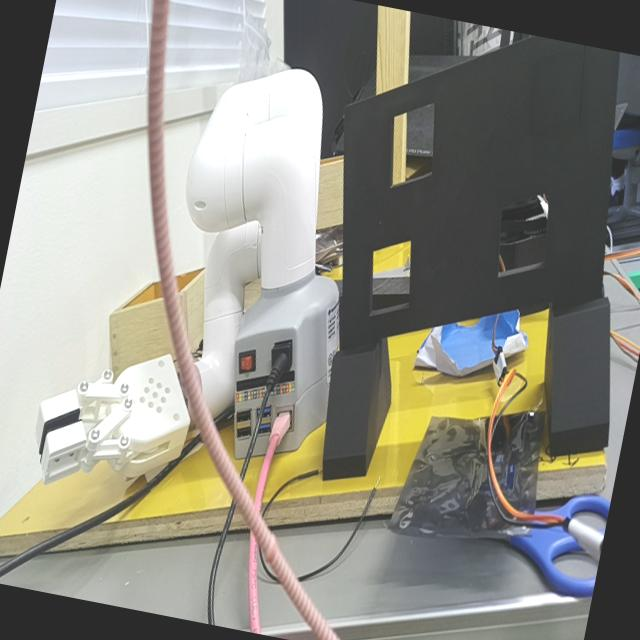Obstacle: (496, 196, 551, 276), (392, 102, 436, 186), (371, 240, 413, 316)
Wall: (342, 36, 620, 348)
